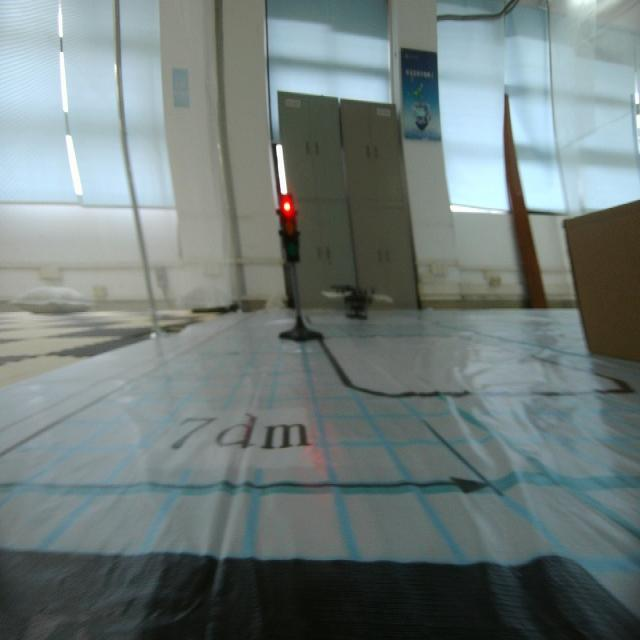red: (273, 190, 303, 270)
